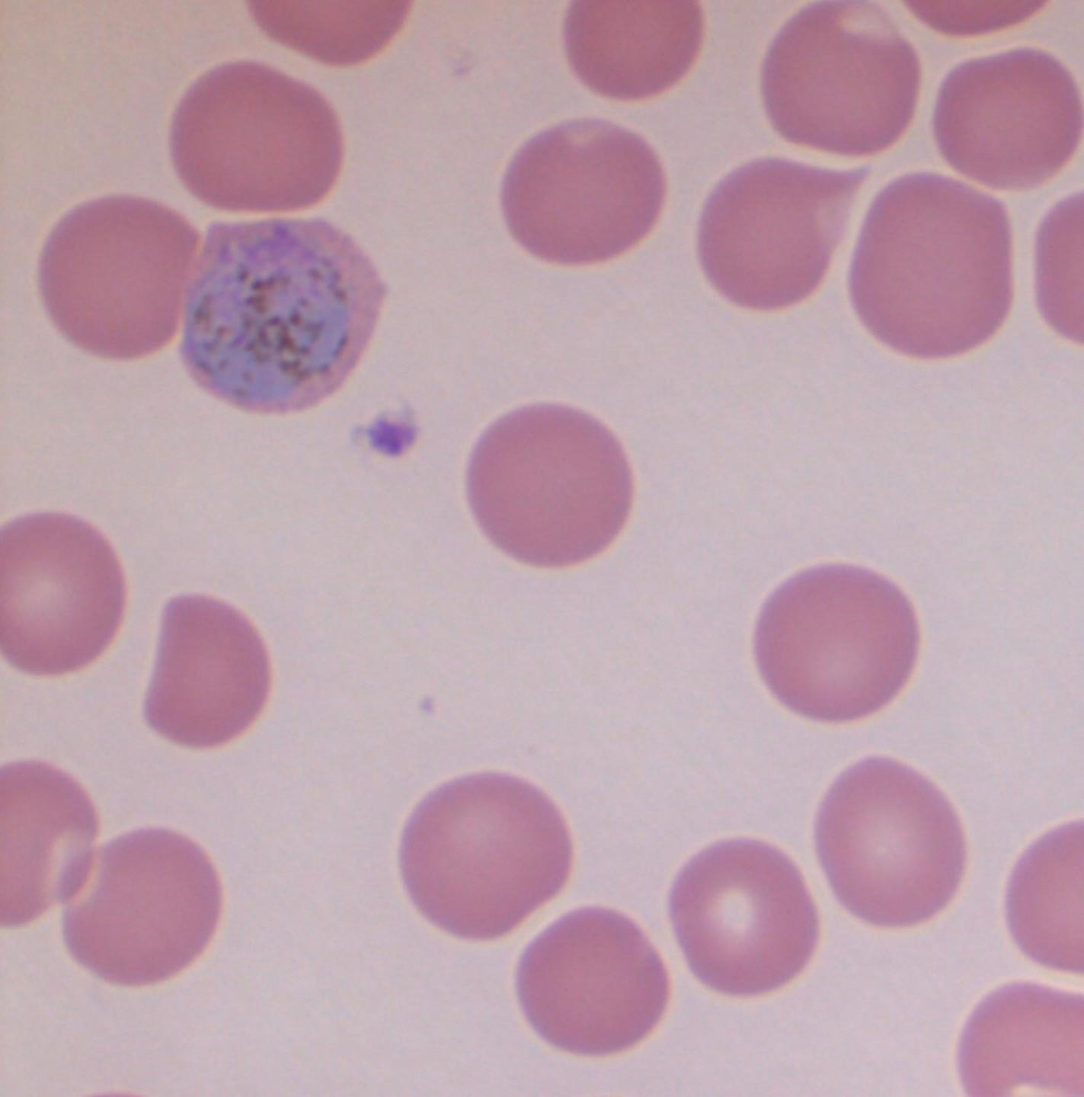Infected: (182, 219, 388, 406)
Uninfected: (851, 169, 1013, 362), (691, 143, 868, 318), (404, 773, 575, 942), (61, 824, 228, 991), (815, 756, 969, 933), (759, 562, 920, 723), (173, 57, 341, 211), (462, 407, 624, 565), (767, 1, 927, 159), (43, 191, 197, 355), (505, 118, 670, 269), (673, 834, 818, 998), (521, 911, 671, 1054), (137, 590, 268, 747), (0, 509, 124, 674), (937, 49, 1084, 186), (559, 0, 705, 109)
